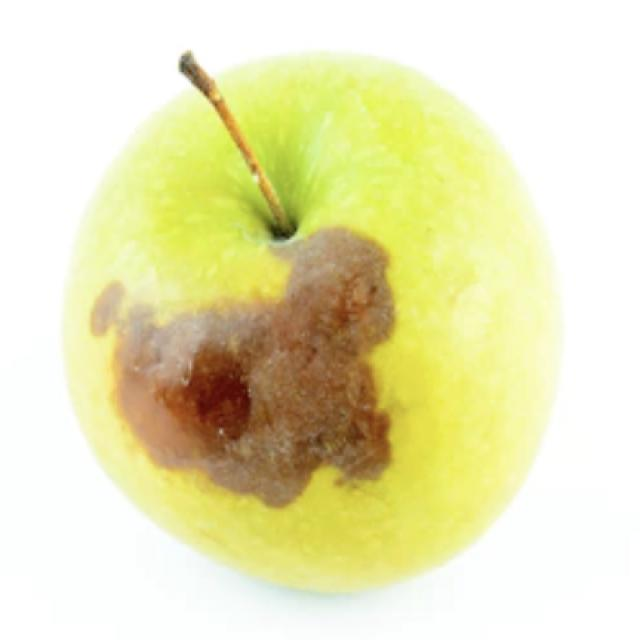rotten_apple: (73, 48, 560, 601)
